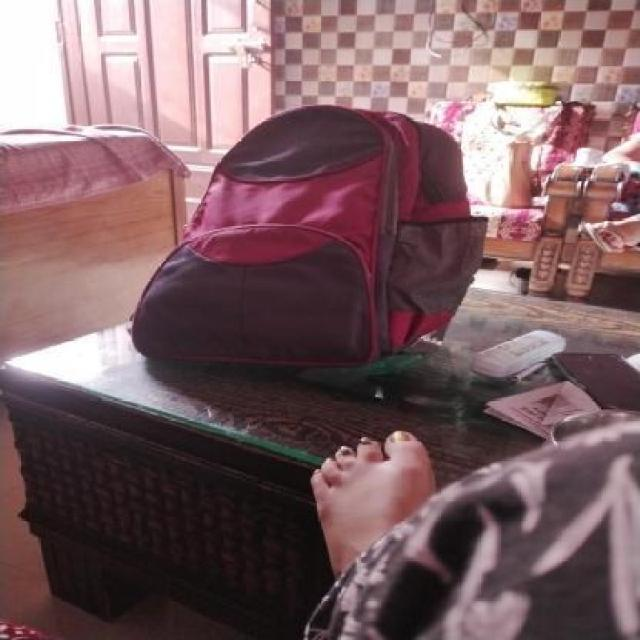backpack: (128, 98, 492, 376)
